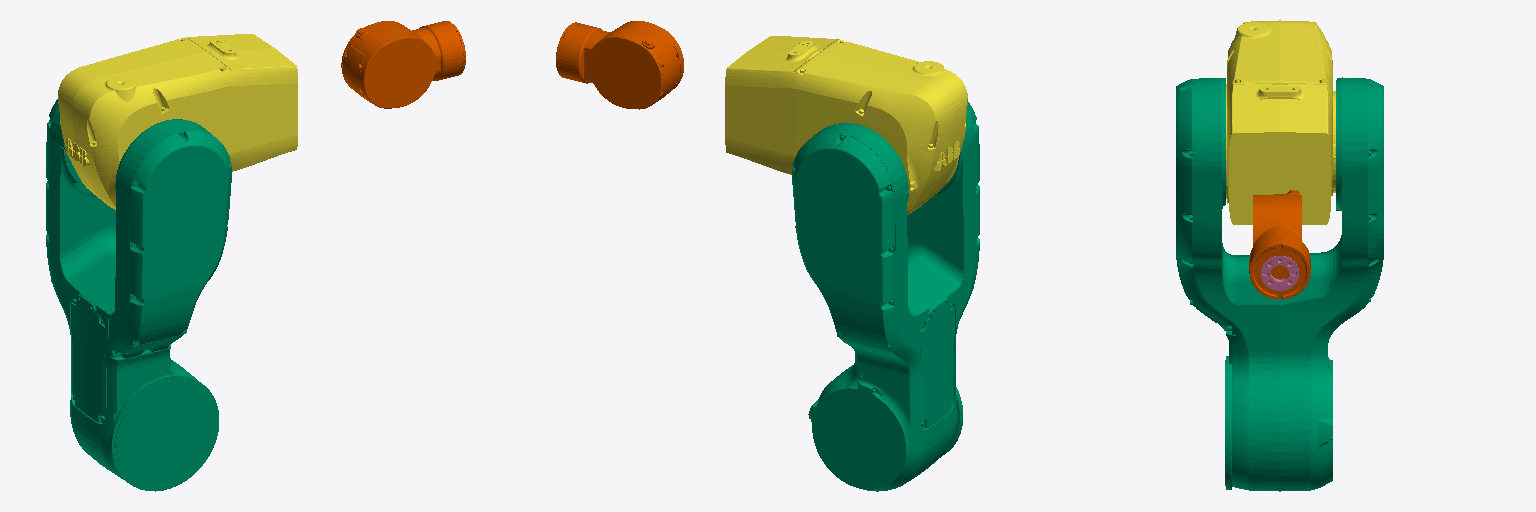
robot.urdf — IRB1200H_7_70_STD:
<?xml version="1.0" ?>
<robot name="IRB1200H_7_70_STD">

<link name="base_link">
  <inertial>
    <origin xyz="-0.02363502115054783 0.0004753411198600945 0.11218944380427573" rpy="0 0 0"/>
    <mass value="83.56281675930377"/>
    <inertia ixx="0.579272" iyy="0.781174" izz="0.698162" ixy="0.004319" iyz="-0.001283" ixz="-0.00506"/>
  </inertial>
  <visual>
    <origin xyz="0 0 0" rpy="0 0 0"/>
    <geometry>
      <mesh filename="meshes/base_link.stl" scale="0.001 0.001 0.001"/>
    </geometry>
  </visual>
  <collision>
    <origin xyz="0 0 0" rpy="0 0 0"/>
    <geometry>
      <mesh filename="meshes/base_link.stl" scale="0.001 0.001 0.001"/>
    </geometry>
  </collision>
</link>

<link name="link_1">
  <inertial>
    <origin xyz="-0.0032574143563410597 0.0004228928818921135 0.10229437430585911" rpy="0 0 0"/>
    <mass value="47.62183211112662"/>
    <inertia ixx="0.595344" iyy="0.377408" izz="0.433985" ixy="-0.000147" iyz="0.000705" ixz="-0.004382"/>
  </inertial>
  <visual>
    <origin xyz="-0.0 -0.0 -0.219" rpy="0 0 0"/>
    <geometry>
      <mesh filename="meshes/link_1.stl" scale="0.001 0.001 0.001"/>
    </geometry>
  </visual>
  <collision>
    <origin xyz="-0.0 -0.0 -0.219" rpy="0 0 0"/>
    <geometry>
      <mesh filename="meshes/link_1.stl" scale="0.001 0.001 0.001"/>
    </geometry>
  </collision>
</link>

<link name="link_2">
  <inertial>
    <origin xyz="-0.009944347609699757 0.06037825705225541 0.16624234768686852" rpy="0 0 0"/>
    <mass value="54.93093636945645"/>
    <inertia ixx="1.322479" iyy="1.146829" izz="0.3246" ixy="0.000481" iyz="6e-05" ixz="-0.006609"/>
  </inertial>
  <visual>
    <origin xyz="-0.0 0.0615 -0.3991" rpy="0 0 0"/>
    <geometry>
      <mesh filename="meshes/link_2.stl" scale="0.001 0.001 0.001"/>
    </geometry>
  </visual>
  <collision>
    <origin xyz="-0.0 0.0615 -0.3991" rpy="0 0 0"/>
    <geometry>
      <mesh filename="meshes/link_2.stl" scale="0.001 0.001 0.001"/>
    </geometry>
  </collision>
</link>

<link name="link_3">
  <inertial>
    <origin xyz="0.04273309398912055 0.06101103306372527 0.035299755142302436" rpy="0 0 0"/>
    <mass value="38.854634298936446"/>
    <inertia ixx="0.127707" iyy="0.302841" izz="0.263122" ixy="6.1e-05" iyz="-8.6e-05" ixz="-0.012088"/>
  </inertial>
  <visual>
    <origin xyz="-0.0 0.061 -0.7491" rpy="0 0 0"/>
    <geometry>
      <mesh filename="meshes/link_3.stl" scale="0.001 0.001 0.001"/>
    </geometry>
  </visual>
  <collision>
    <origin xyz="-0.0 0.061 -0.7491" rpy="0 0 0"/>
    <geometry>
      <mesh filename="meshes/link_3.stl" scale="0.001 0.001 0.001"/>
    </geometry>
  </collision>
</link>

<link name="link_4">
  <inertial>
    <origin xyz="0.09376827741240087 0.0016293023500022993 0.0010874229942521296" rpy="0 0 0"/>
    <mass value="14.103514853516494"/>
    <inertia ixx="0.029406" iyy="0.057716" izz="0.061956" ixy="-0.001377" iyz="-1.2e-05" ixz="0.000468"/>
  </inertial>
  <visual>
    <origin xyz="-0.1655 0.00012 -0.791099" rpy="0 0 0"/>
    <geometry>
      <mesh filename="meshes/link_4.stl" scale="0.001 0.001 0.001"/>
    </geometry>
  </visual>
  <collision>
    <origin xyz="-0.1655 0.00012 -0.791099" rpy="0 0 0"/>
    <geometry>
      <mesh filename="meshes/link_4.stl" scale="0.001 0.001 0.001"/>
    </geometry>
  </collision>
</link>

<link name="link_5">
  <inertial>
    <origin xyz="0.013848200109173203 -0.027811016104562186 5.4563116480554896e-05" rpy="0 0 0"/>
    <mass value="4.542326346976594"/>
    <inertia ixx="0.003479" iyy="0.008928" izz="0.007834" ixy="-0.000177" iyz="-4e-06" ixz="1.2e-05"/>
  </inertial>
  <visual>
    <origin xyz="-0.351 -0.025379 -0.7911" rpy="0 0 0"/>
    <geometry>
      <mesh filename="meshes/link_5.stl" scale="0.001 0.001 0.001"/>
    </geometry>
  </visual>
  <collision>
    <origin xyz="-0.351 -0.025379 -0.7911" rpy="0 0 0"/>
    <geometry>
      <mesh filename="meshes/link_5.stl" scale="0.001 0.001 0.001"/>
    </geometry>
  </collision>
</link>

<link name="link_6">
  <inertial>
    <origin xyz="0.002845591460718222 3.5148072682996196e-07 -0.00036679995380684005" rpy="0 0 0"/>
    <mass value="0.036681809664465305"/>
    <inertia ixx="1e-05" iyy="5e-06" izz="5e-06" ixy="0.0" iyz="-0.0" ixz="-0.0"/>
  </inertial>
  <visual>
    <origin xyz="-0.4365 4e-06 -0.7911" rpy="0 0 0"/>
    <geometry>
      <mesh filename="meshes/link_6.stl" scale="0.001 0.001 0.001"/>
    </geometry>
  </visual>
  <collision>
    <origin xyz="-0.4365 4e-06 -0.7911" rpy="0 0 0"/>
    <geometry>
      <mesh filename="meshes/link_6.stl" scale="0.001 0.001 0.001"/>
    </geometry>
  </collision>
</link>

<joint name="joint_1" type="revolute">
  <origin xyz="0.0 0.0 0.219" rpy="0 0 0"/>
  <parent link="base_link"/>
  <child link="link_1"/>
  <axis xyz="0.0 0.0 1.0"/>
  <limit lower="-2.9671" upper="2.9671" effort="0" velocity="5.0265" />
</joint>

<joint name="joint_2" type="revolute">
  <origin xyz="0.0 -0.0615 0.1801" rpy="0 0 0"/>
  <parent link="link_1"/>
  <child link="link_2"/>
  <axis xyz="0.0 -1.0 0.0"/>
  <limit lower="-1.7453" upper="2.2689" effort="0" velocity="3.9095" />
</joint>

<joint name="joint_3" type="revolute">
  <origin xyz="0.0 0.0005 0.35" rpy="0 0 0"/>
  <parent link="link_2"/>
  <child link="link_3"/>
  <axis xyz="0.0 -1.0 0.0"/>
  <limit lower="-3.4907" upper="1.2217" effort="0" velocity="5.1836" />
</joint>

<joint name="joint_4" type="revolute">
  <origin xyz="0.1655 0.06088 0.041999" rpy="0 0 0"/>
  <parent link="link_3"/>
  <child link="link_4"/>
  <axis xyz="-1.0 0.0 1.7e-05"/>
  <limit lower="-4.7124" upper="4.7124" effort="0" velocity="6.9813" />
</joint>

<joint name="joint_5" type="revolute">
  <origin xyz="0.1855 0.025499 1e-06" rpy="0 0 0"/>
  <parent link="link_4"/>
  <child link="link_5"/>
  <axis xyz="0.0 -1.0 0.0"/>
  <limit lower="-2.2689" upper="2.2689" effort="0" velocity="7.0686" />
</joint>

<joint name="joint_6" type="revolute">
  <origin xyz="0.0855 -0.025383 0.0" rpy="0 0 0"/>
  <parent link="link_5"/>
  <child link="link_6"/>
  <axis xyz="1.0 0.0 0.0"/>
  <limit lower="-6.9813" upper="6.9813" effort="0" velocity="10.4719" />
</joint>

<link name="flange">
</link>

<joint name="joint_6-flange" type="fixed">
  <origin xyz="0 0 0" rpy="0 1.57 0"/>
  <parent link="link_6"/>
  <child link="flange"/>
</joint>

<link name="tool0">
</link>

<joint name="flange-tool0" type="fixed">
  <origin xyz="0 0 0" rpy="0 0 0"/>
  <parent link="flange"/>
  <child link="tool0"/>
</joint>

</robot>

--- What the picture shows (computed from the rendered views, not written in the file) ---
3 views of the same robot in one strip: view 1: azimuth 30°, elevation 25°; view 2: azimuth 150°, elevation 25°; view 3: azimuth 270°, elevation 25° (orthographic).
Robot: IRB1200H_7_70_STD — 9 links, 8 joints (6 revolute, 2 fixed); root link base_link; default pose: all joints at 0.
Visible links, largest first — view 1: link_2, link_3, link_5; view 2: link_2, link_3, link_5; view 3: link_2, link_3, link_5, link_6.
Boxes of the visible links, x1,y1,x2,y2 form: link_2: (46, 99, 231, 491); link_3: (58, 34, 297, 209); link_5: (341, 21, 465, 108); link_2: (792, 102, 979, 491); link_3: (725, 36, 967, 214); link_5: (556, 21, 683, 109); link_2: (1176, 77, 1383, 491); link_3: (1226, 20, 1335, 224); link_5: (1249, 190, 1310, 298); link_6: (1261, 256, 1298, 290).
Size in the robot's own frame: 0.5387 by 0.235 by 0.5473 metres.
4 mesh visuals loaded from 7 distinct referenced files (4 binary STL); not drawn: 3 (reference not matched to a file when rendering).